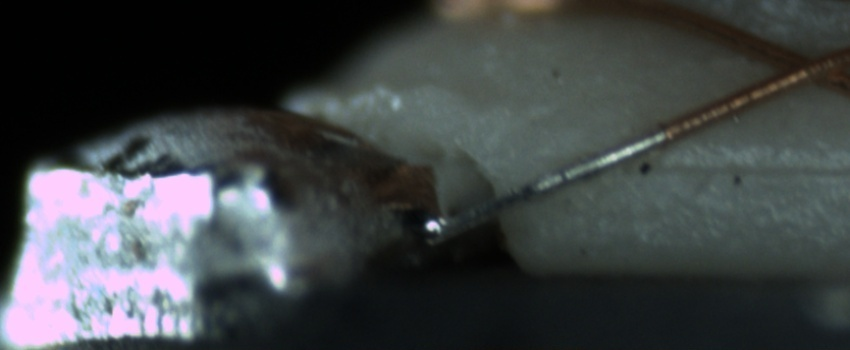CL: (756, 35, 844, 95)
DL: (631, 136, 850, 196)
TS: (419, 131, 655, 247)
